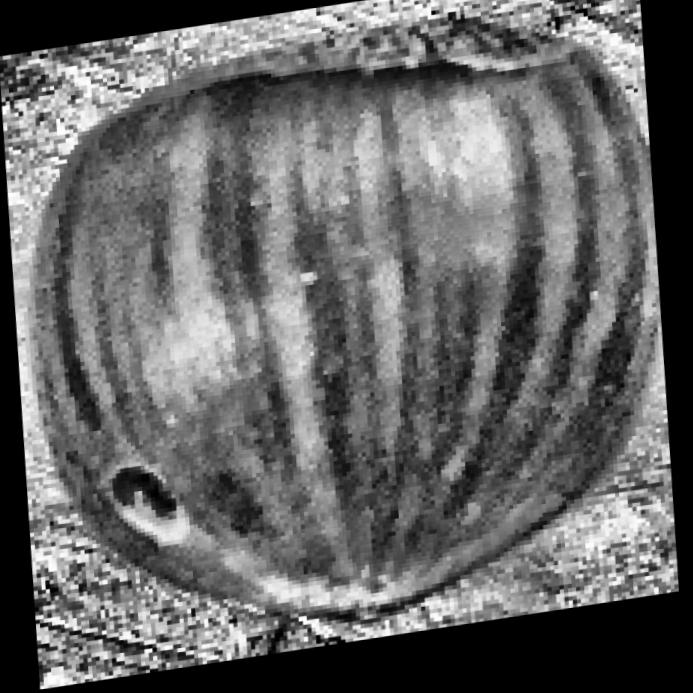damagedHazelnut: (0, 0, 693, 693)
